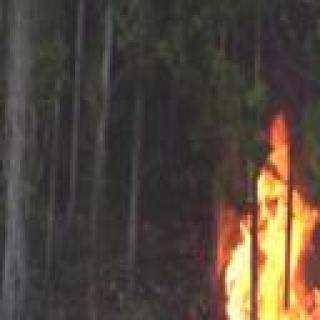fire: (158, 114, 320, 320)
